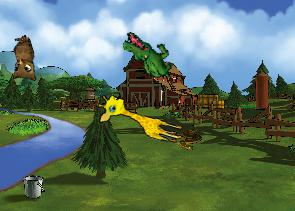crocodile: (115, 30, 183, 83)
giraffe: (93, 91, 188, 145)
owl: (1, 33, 41, 86)
